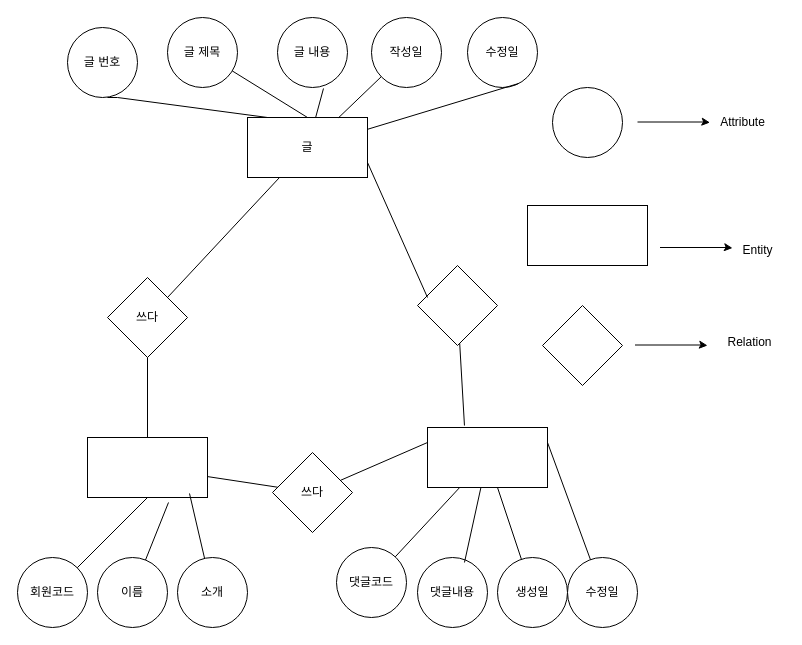
This 802x645 diagram has some shape labels left out. Each missing label, with the centre of its shape:
"댓글" belongs at (x=487, y=457).
"소속" belongs at (x=457, y=305).
"회원" belongs at (x=147, y=467).
